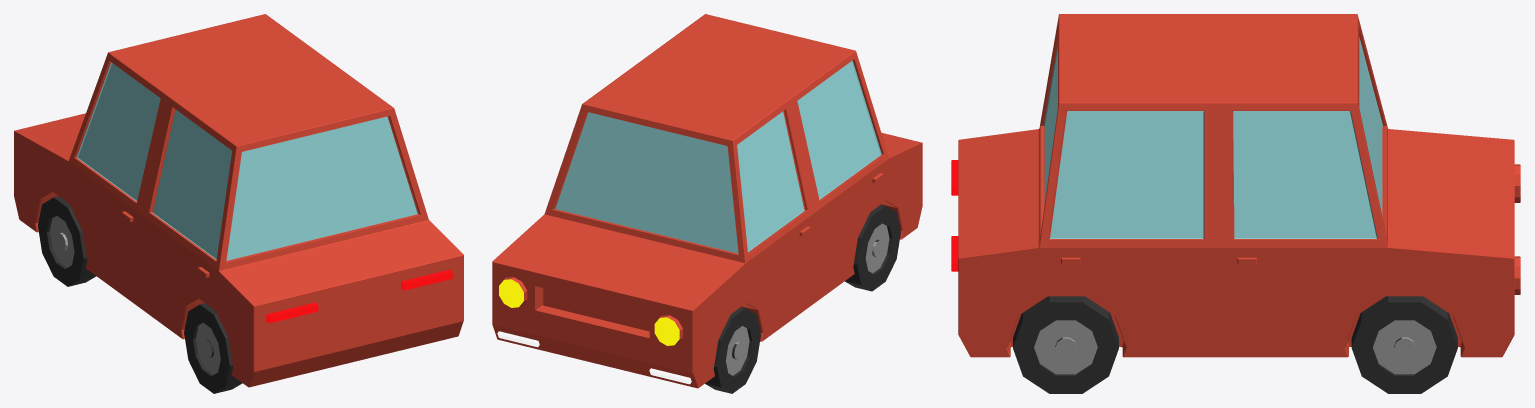
File: voiture.glb
The picture shows the model from 3 angles, left to right: view 1: azimuth 30°, elevation 25°; view 2: azimuth 150°, elevation 25°; view 3: azimuth 270°, elevation 25°; orthographic projection. The views are drawn at different scales.
Visible parts, largest first — view 1: Cube, Cylindre; view 2: Cube, Cylindre; view 3: Cube, Cylindre.
Boxes of the visible parts, <box> form: Cube: <box>14,14,463,387</box>; Cylindre: <box>38,196,242,393</box>; Cube: <box>492,14,922,388</box>; Cylindre: <box>705,205,900,393</box>; Cube: <box>951,14,1520,357</box>; Cylindre: <box>1013,296,1457,393</box>.
Bounding box in the file's own units: 2.06 × 2.16 × 4.05.
